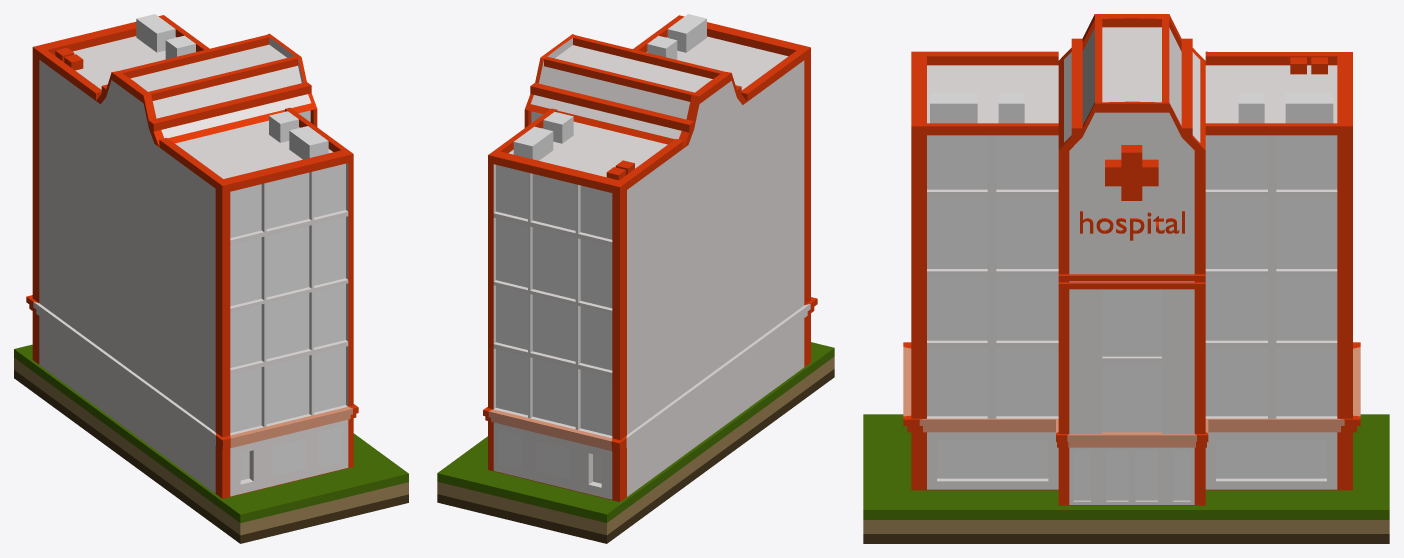
The model's file is HospitalPrefab.fbx.
The picture shows the model from 3 angles, left to right: view 1: azimuth 30°, elevation 25°; view 2: azimuth 150°, elevation 25°; view 3: azimuth 270°, elevation 25°; orthographic projection. The views are drawn at different scales.
Visible parts, largest first — view 1: hospital, factory ground.001, Cube.024, Cube.025; view 2: hospital, factory ground.001, Cube.024, Cube.025; view 3: hospital, factory ground.001, Cube.024, Cube.023, Cube.025, Cube.014, Cube.015, Text.
Part boxes in pixels (x1,y1,x2,y2): hospital: (26,15,358,498); factory ground.001: (14,344,408,543); Cube.024: (136,14,328,159); Cube.025: (165,35,298,142); hospital: (483,15,817,501); factory ground.001: (437,342,834,543); Cube.024: (513,14,706,160); Cube.025: (543,35,677,143); hospital: (903,14,1360,505); factory ground.001: (863,414,1389,543); Cube.024: (930,93,1333,123); Cube.023: (1105,145,1158,200); Cube.025: (998,93,1264,123); Cube.014: (1058,282,1205,289); Cube.015: (1058,274,1205,281); Text: (1080,211,1184,240).
Size of the model in its own units: 105 by 215 by 235.
